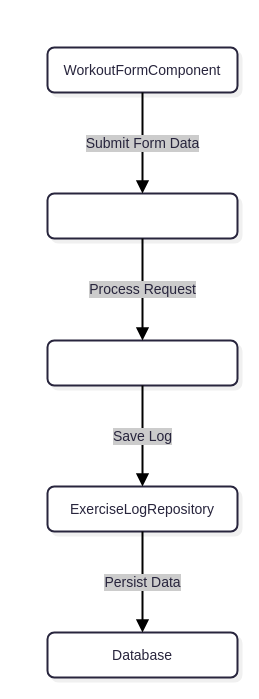
This 259x699 diagram has some shape labels left out. Here are the shapes that lost their labels. From the top down, the centre of each, then its label:
At pixel 144 217: "WorkoutController".
At pixel 144 364: "WorkoutService".
